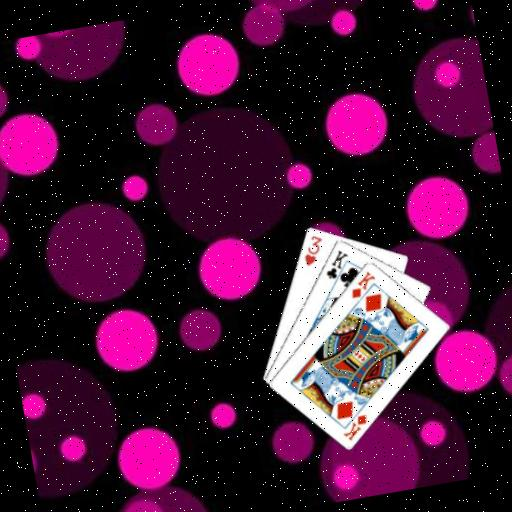3H: (297, 230, 327, 267)
KC: (319, 246, 354, 288)
KD: (344, 266, 380, 300), (337, 410, 372, 443)
